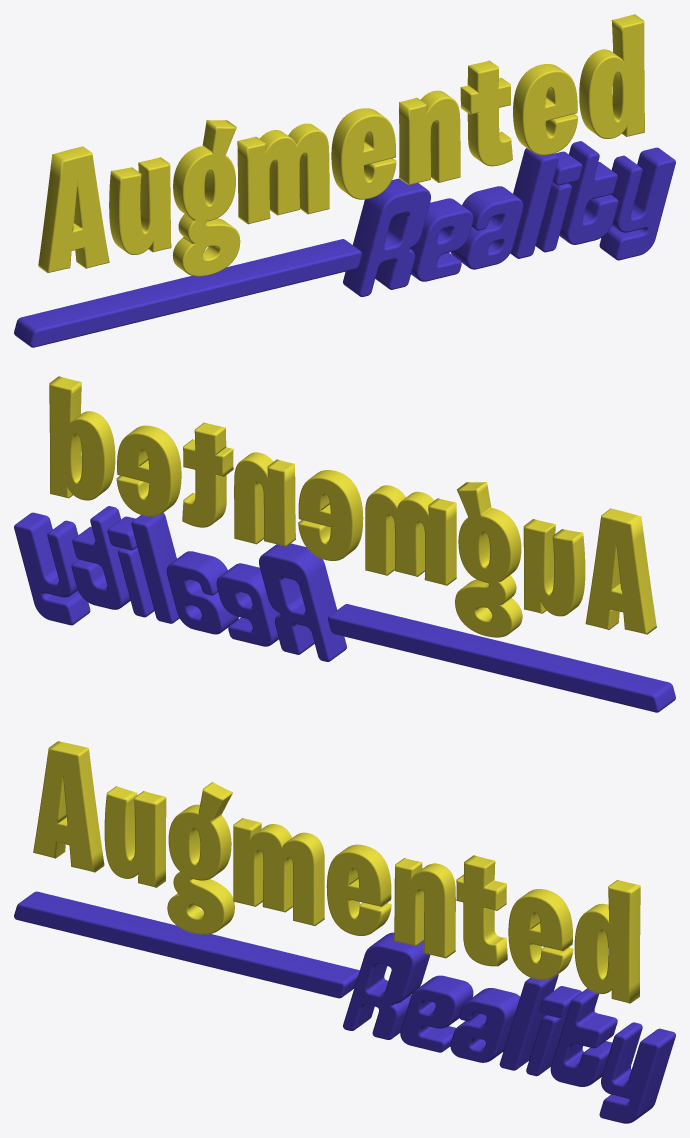
File: AugmentedReality.glb
3 renders of one model, top to bottom at view 1: azimuth 30°, elevation 25°; view 2: azimuth 150°, elevation 25°; view 3: azimuth 330°, elevation 25°, orthographic.
Visible parts, largest first — view 1: Text, Text.002; view 2: Text, Text.002; view 3: Text, Text.002.
Boxes of the visible parts, left/top/right/bottom form: Text: left=38, top=14, right=644, bottom=276; Text.002: left=14, top=141, right=675, bottom=347; Text: left=49, top=376, right=656, bottom=637; Text.002: left=14, top=506, right=675, bottom=712; Text: left=33, top=741, right=640, bottom=1003; Text.002: left=14, top=891, right=675, bottom=1123.
Bounding box in the file's own units: 4.9 × 1.7 × 0.24.
